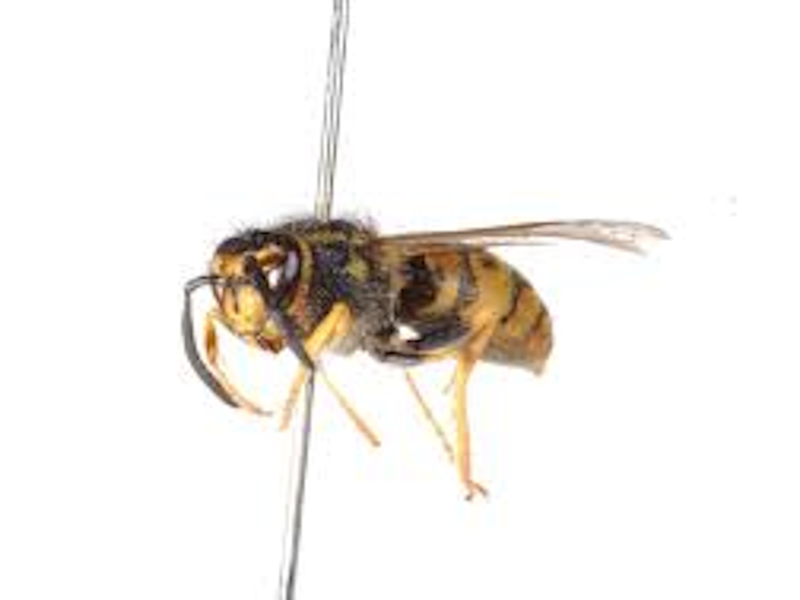chax: (148, 186, 716, 486)
